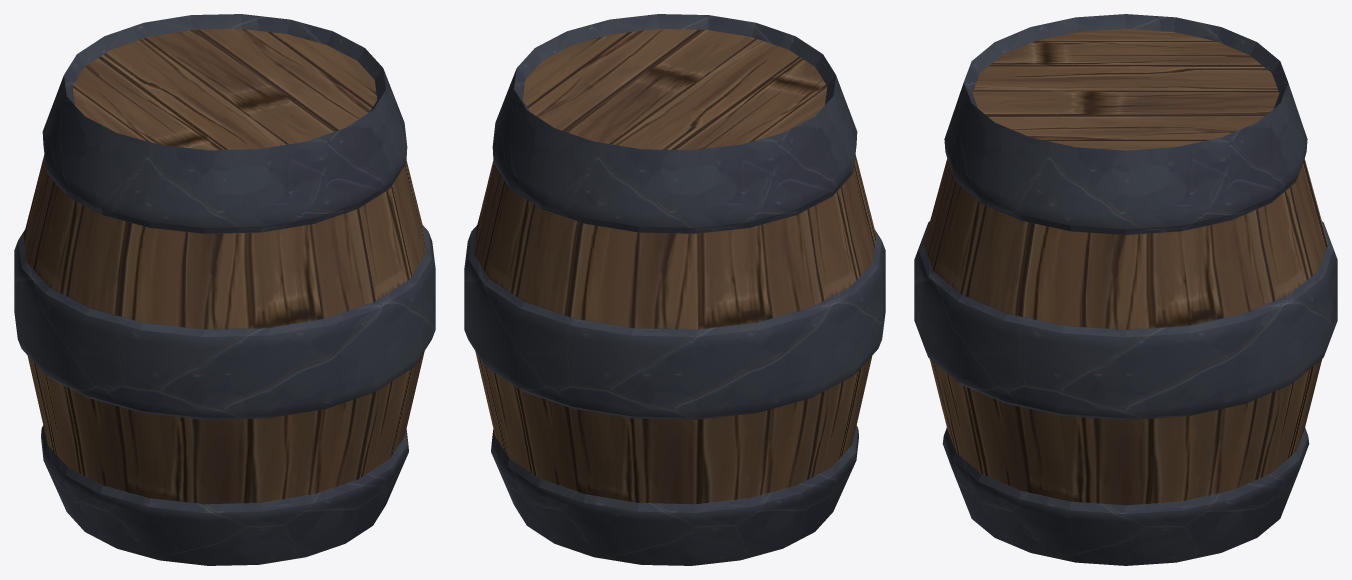
File: Barrel.fbx
3 views of the same model, side by side, from view 1: azimuth 30°, elevation 25°; view 2: azimuth 150°, elevation 25°; view 3: azimuth 270°, elevation 25° (orthographic).
Visible parts, largest first — view 1: Barrel_001; view 2: Barrel_001; view 3: Barrel_001.
Part boxes in pixels (x1=…): Barrel_001: x1=14, y1=14, x2=435, y2=565; Barrel_001: x1=464, y1=14, x2=885, y2=565; Barrel_001: x1=914, y1=14, x2=1337, y2=565.
Size of the model in its own units: 0.7587 by 0.8212 by 0.7587.
